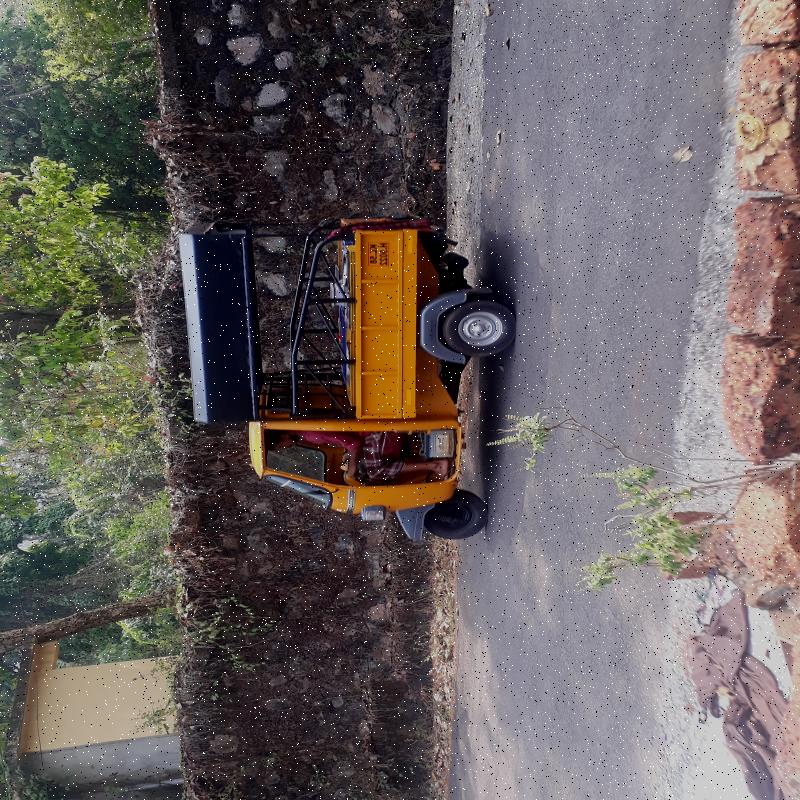auto: (206, 228, 497, 537)
